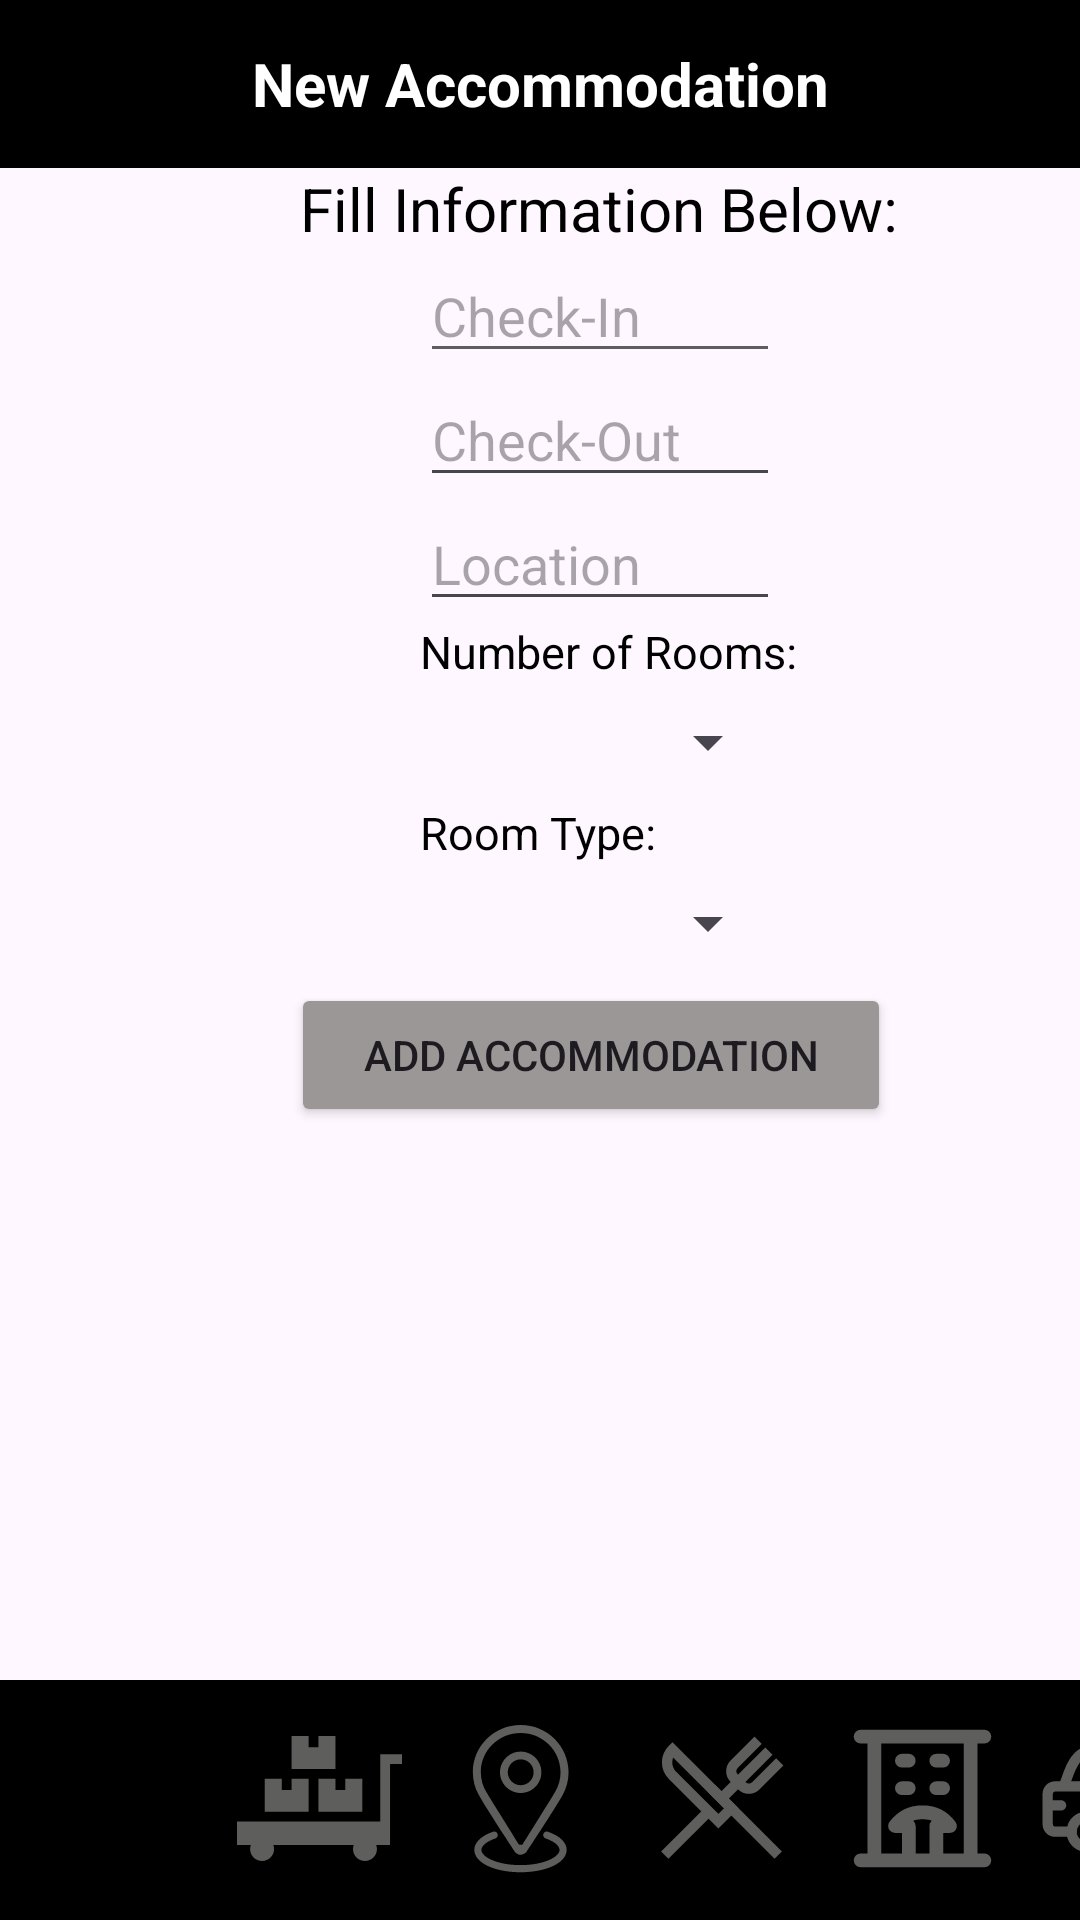

Icons on this 1080×1920 Android screen, each with its box as region(x1, y1, x2, y2):
Accommodations: region(854, 1730, 991, 1867)
Destination: region(473, 1725, 569, 1872)
Dining Establishments: region(661, 1737, 783, 1859)
Logistics: region(237, 1736, 402, 1861)
